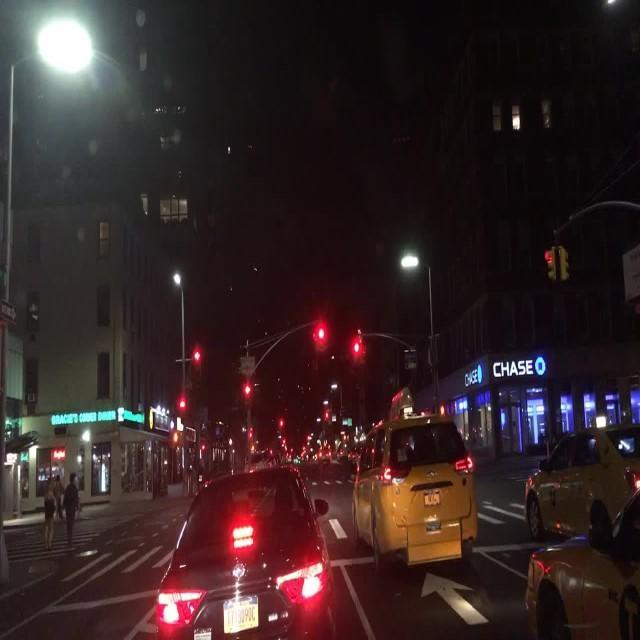normal: (142, 469, 339, 640), (350, 408, 478, 566), (521, 427, 639, 545)
